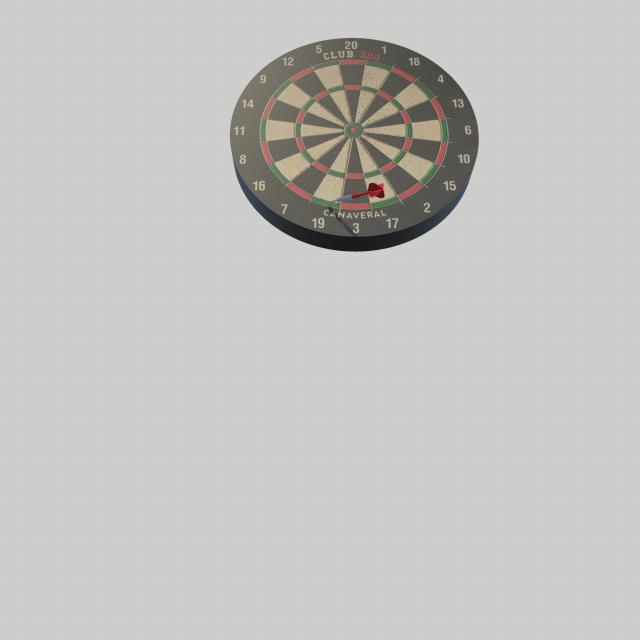metal: (327, 194, 353, 203)
plastic: (351, 183, 385, 198)
